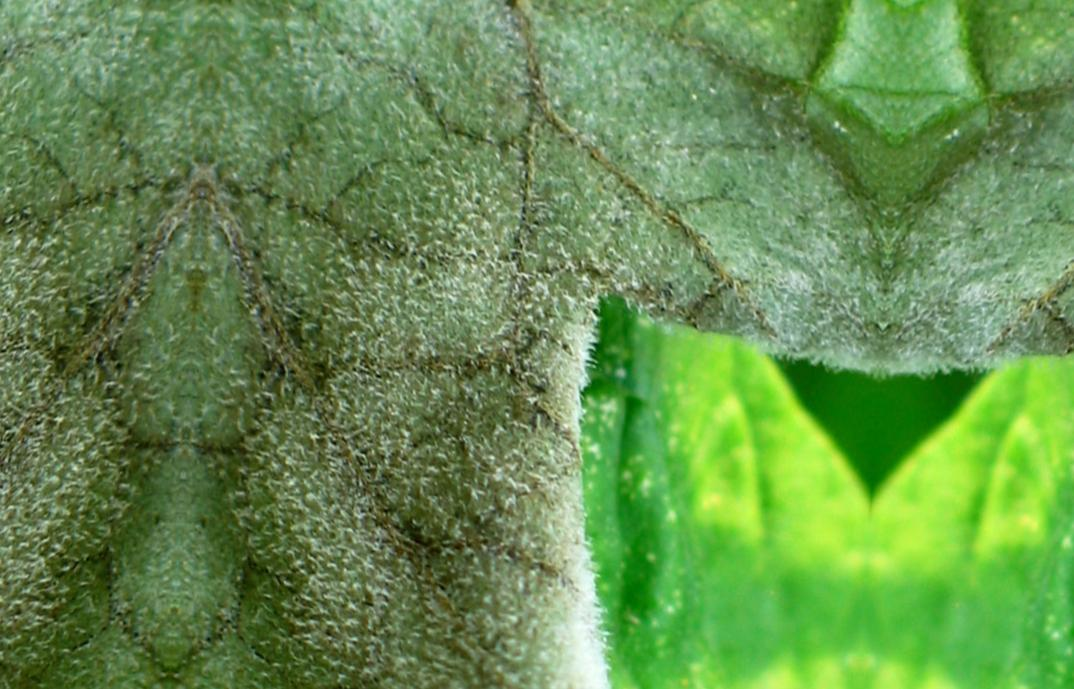Tomato leaf late blight: (157, 0, 917, 689)
